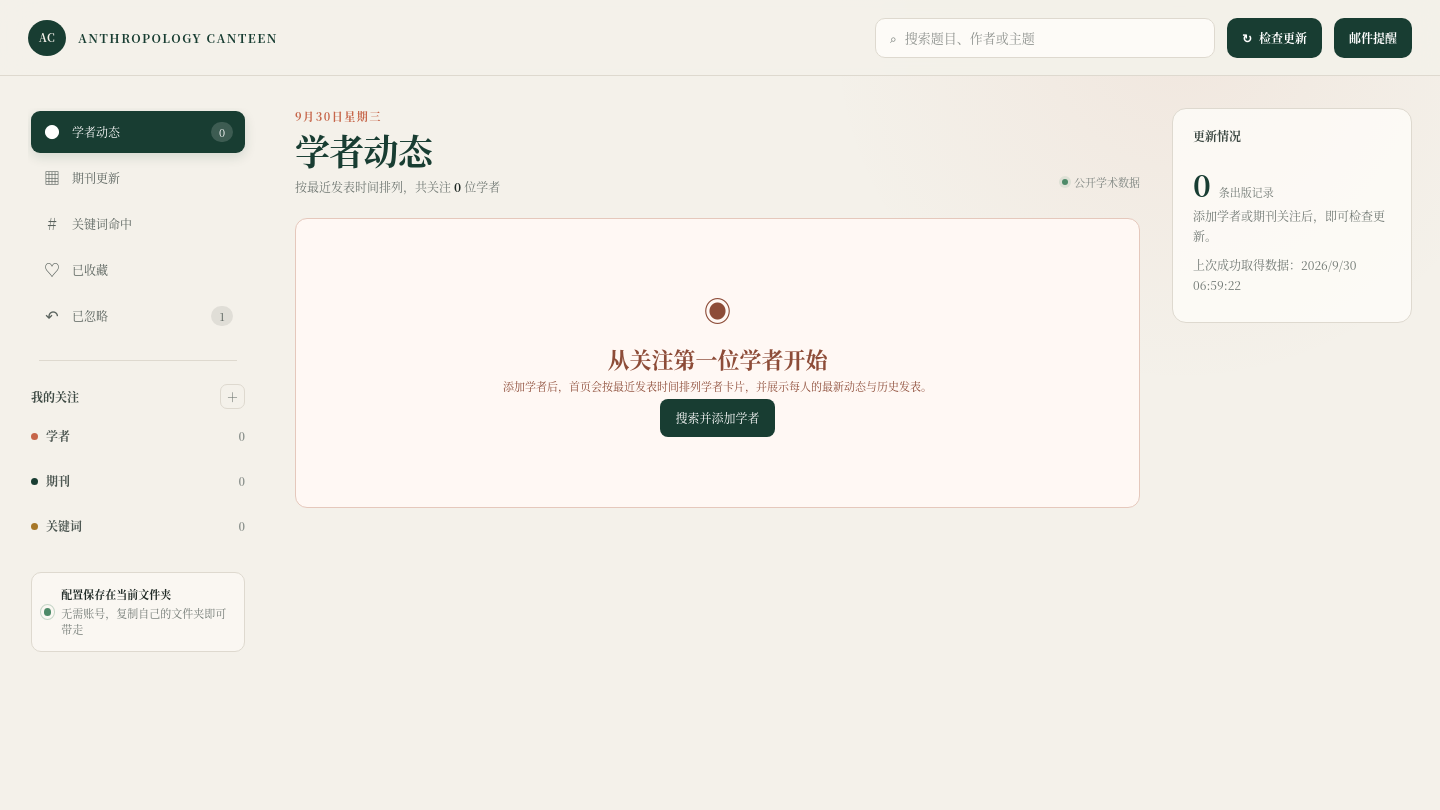
Test: article recovery › shows an orphan ignored state and clears only ignored when restored
Step 1. Click the button "↶ 已忽略 1" → [138, 316], box [31,295,245,337]
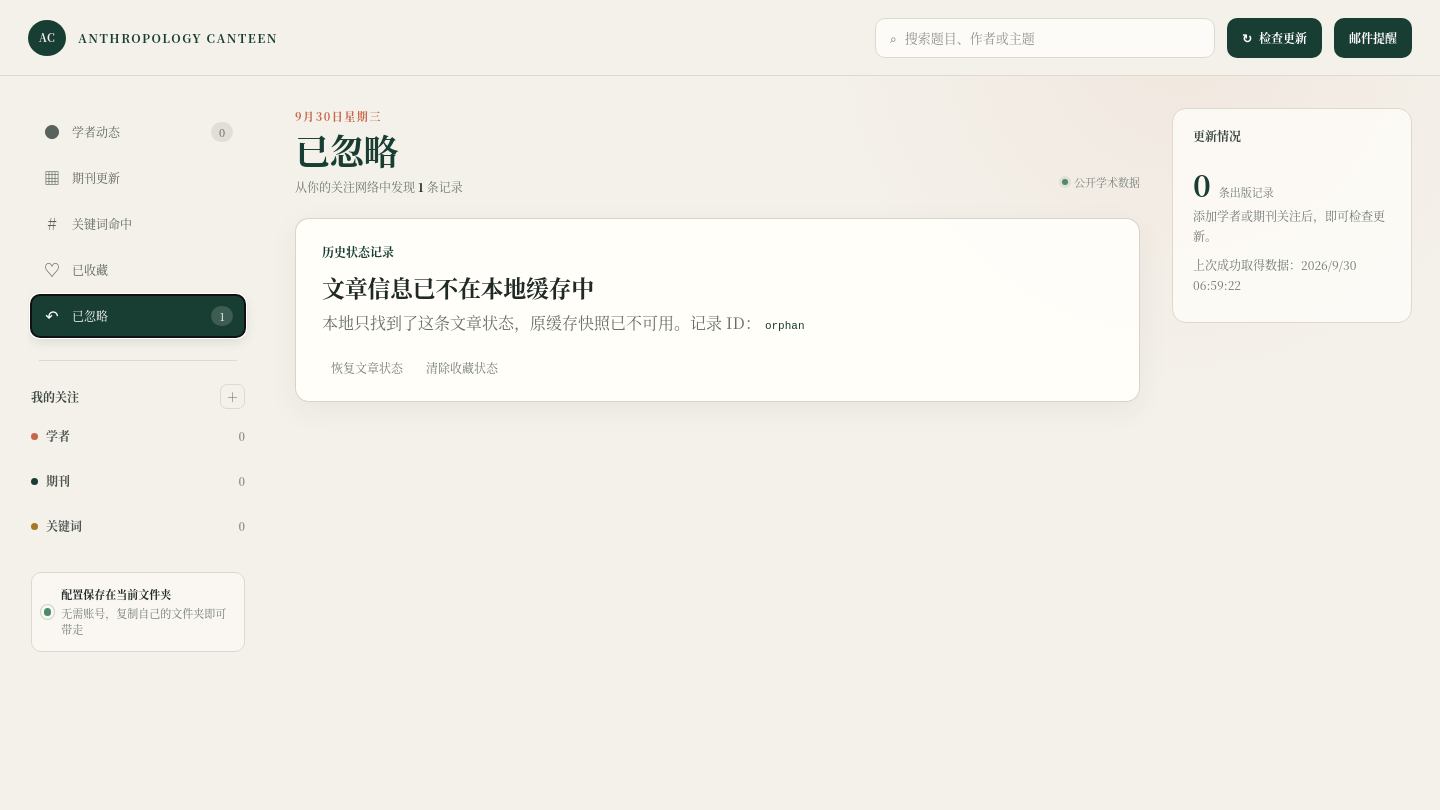
Expected: the heading "文章信息已不在本地缓存中" is shown, [322,271,594,304]
Expected: the text "orphan" is shown, [765,317,804,335]
Step 2. Click the button "恢复文章状态" → [367, 368], box [322,353,412,383]
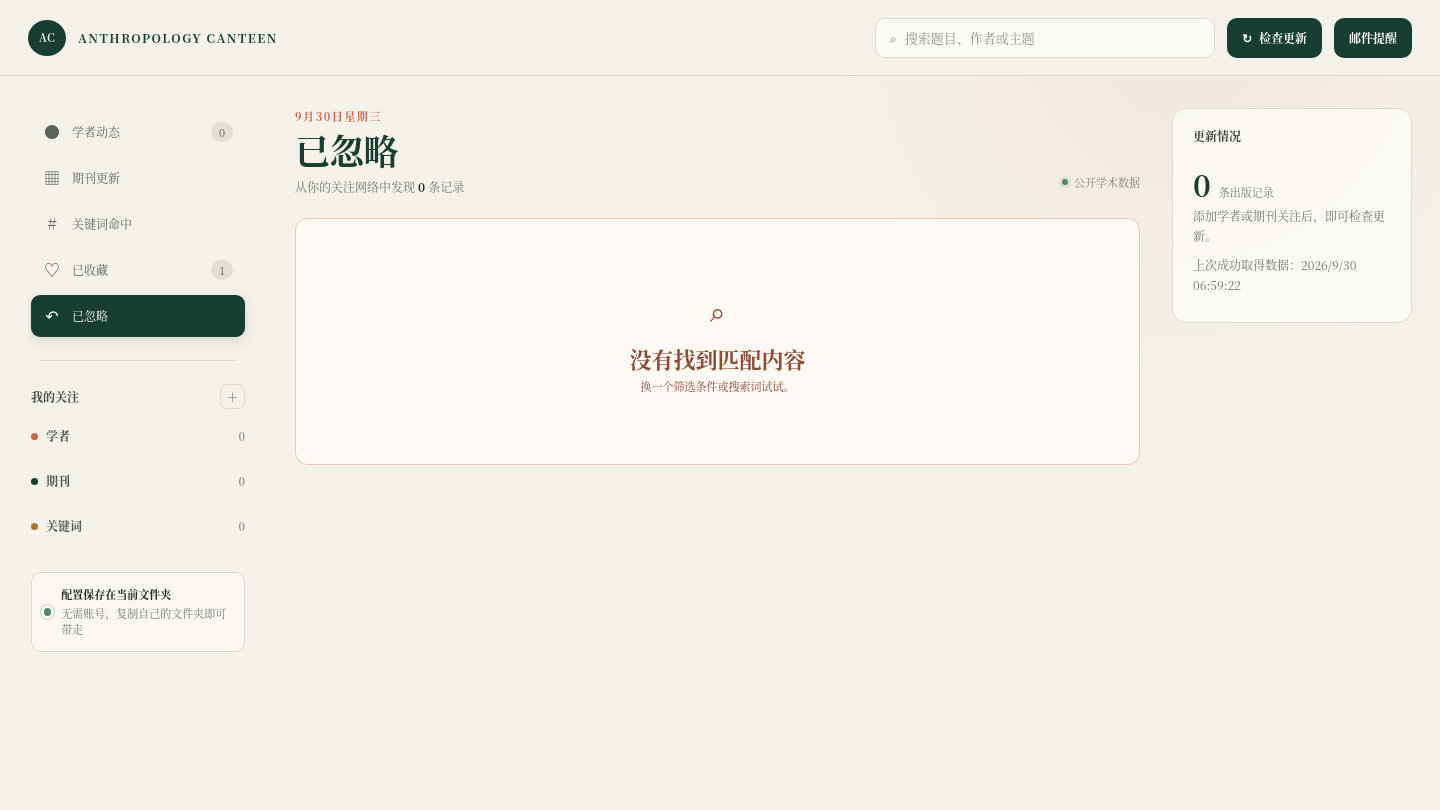
Step 3. Click the button "♡ 已收藏 1" → [138, 270], box [31,249,245,291]
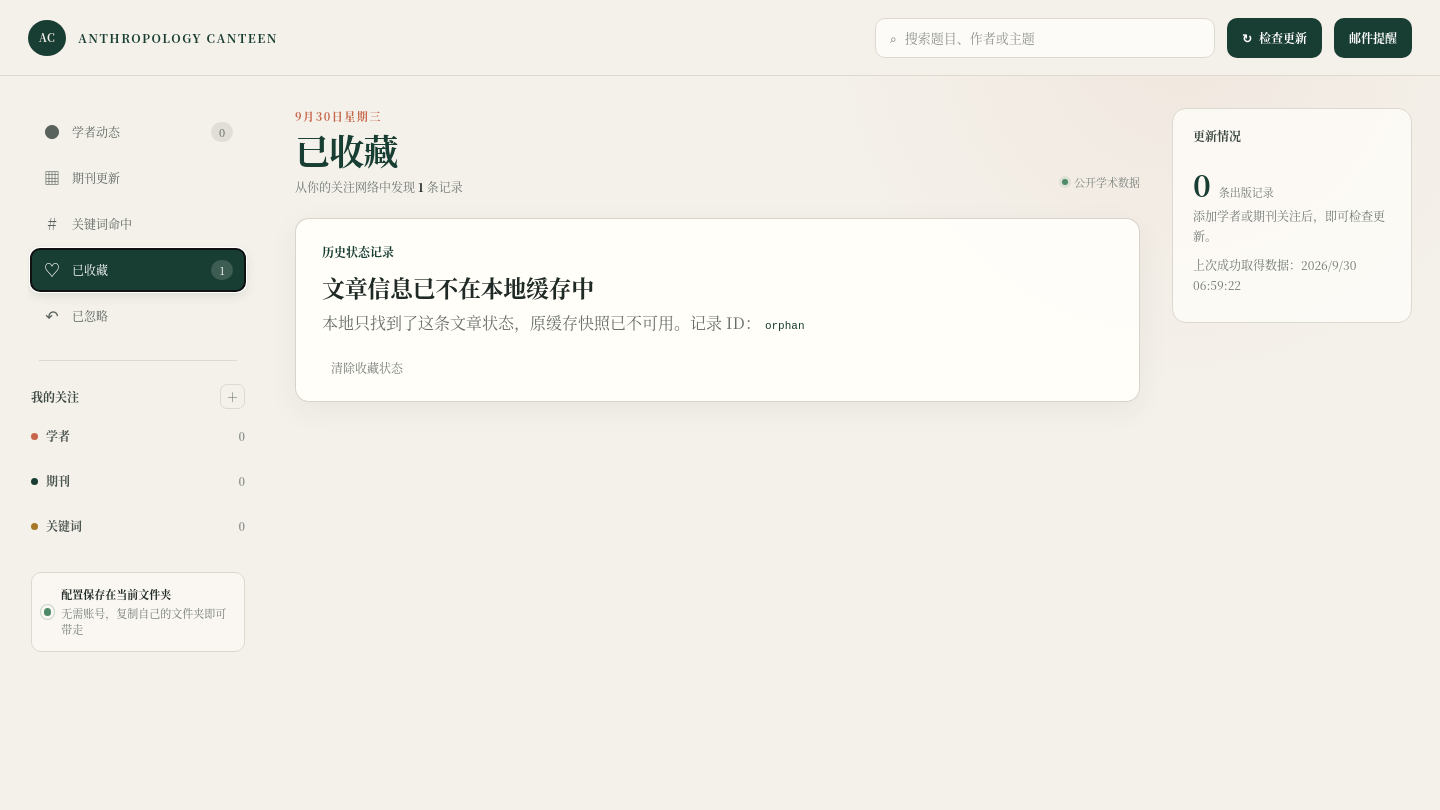
Expected: the heading "文章信息已不在本地缓存中" is shown, [322,271,594,304]
